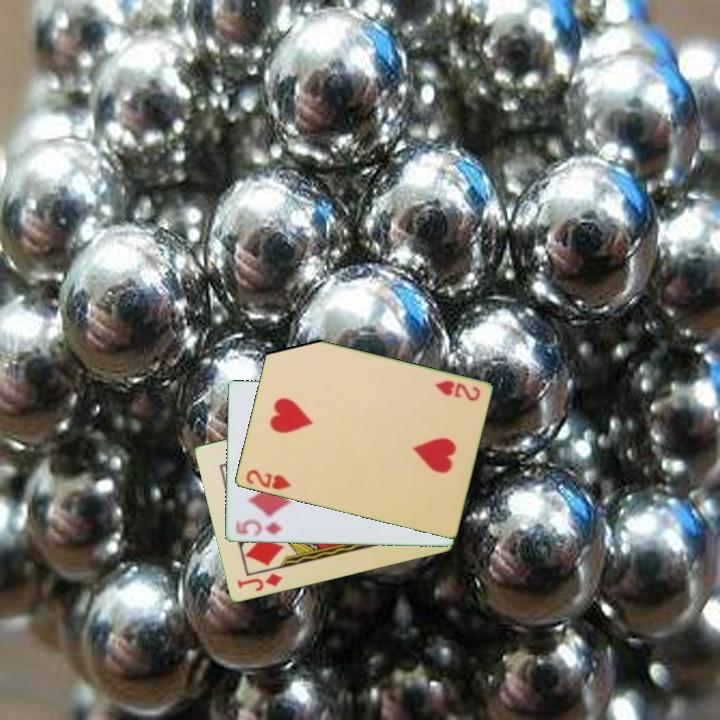2h: (242, 466, 294, 493), (431, 377, 483, 404)
5d: (232, 516, 285, 539)
Jd: (234, 570, 285, 595)
